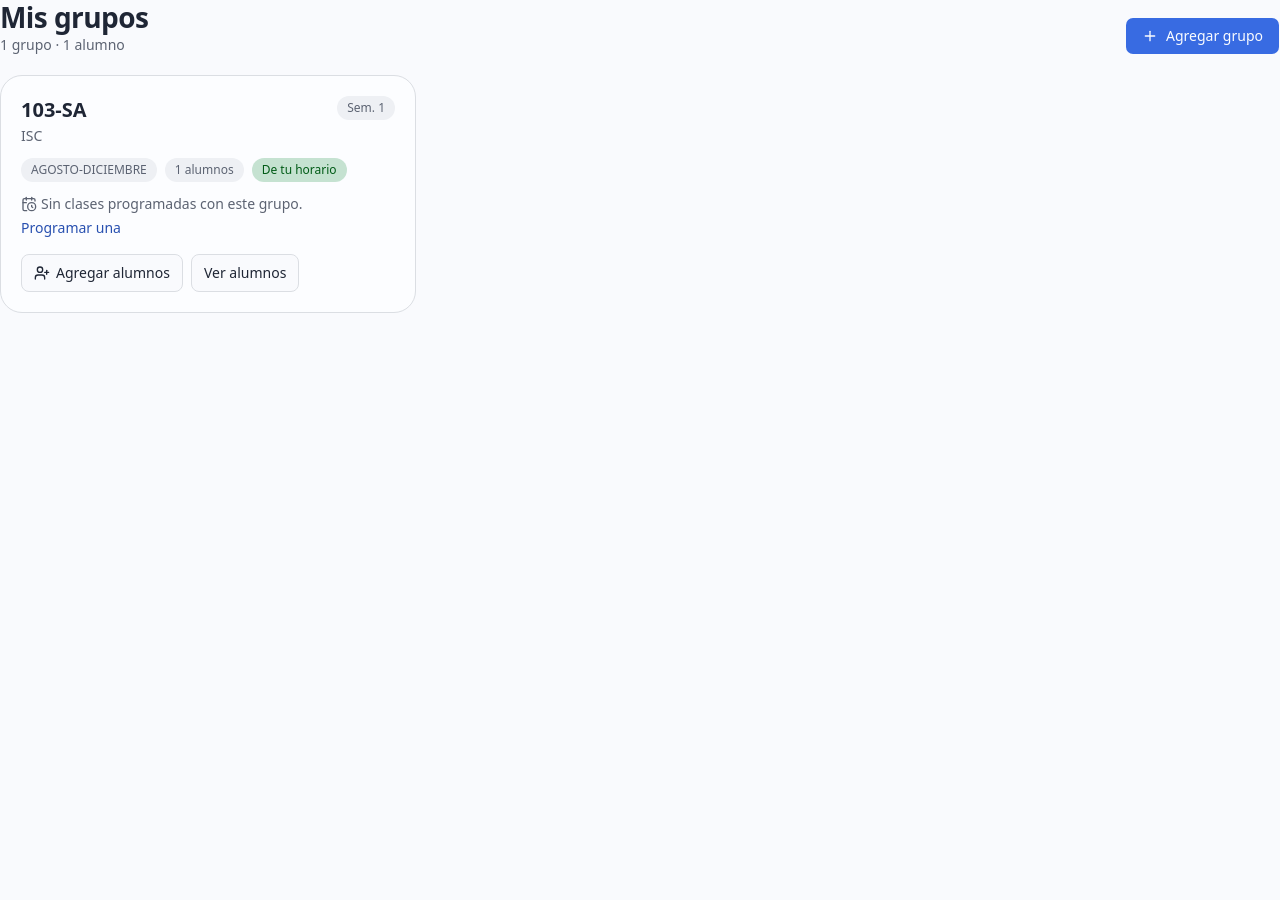
Test: si el servidor rechaza el sexo se regresa al valor anterior y se explica
Step 1. Click the button "Ver alumnos" → [245, 273], box [191,254,299,292]
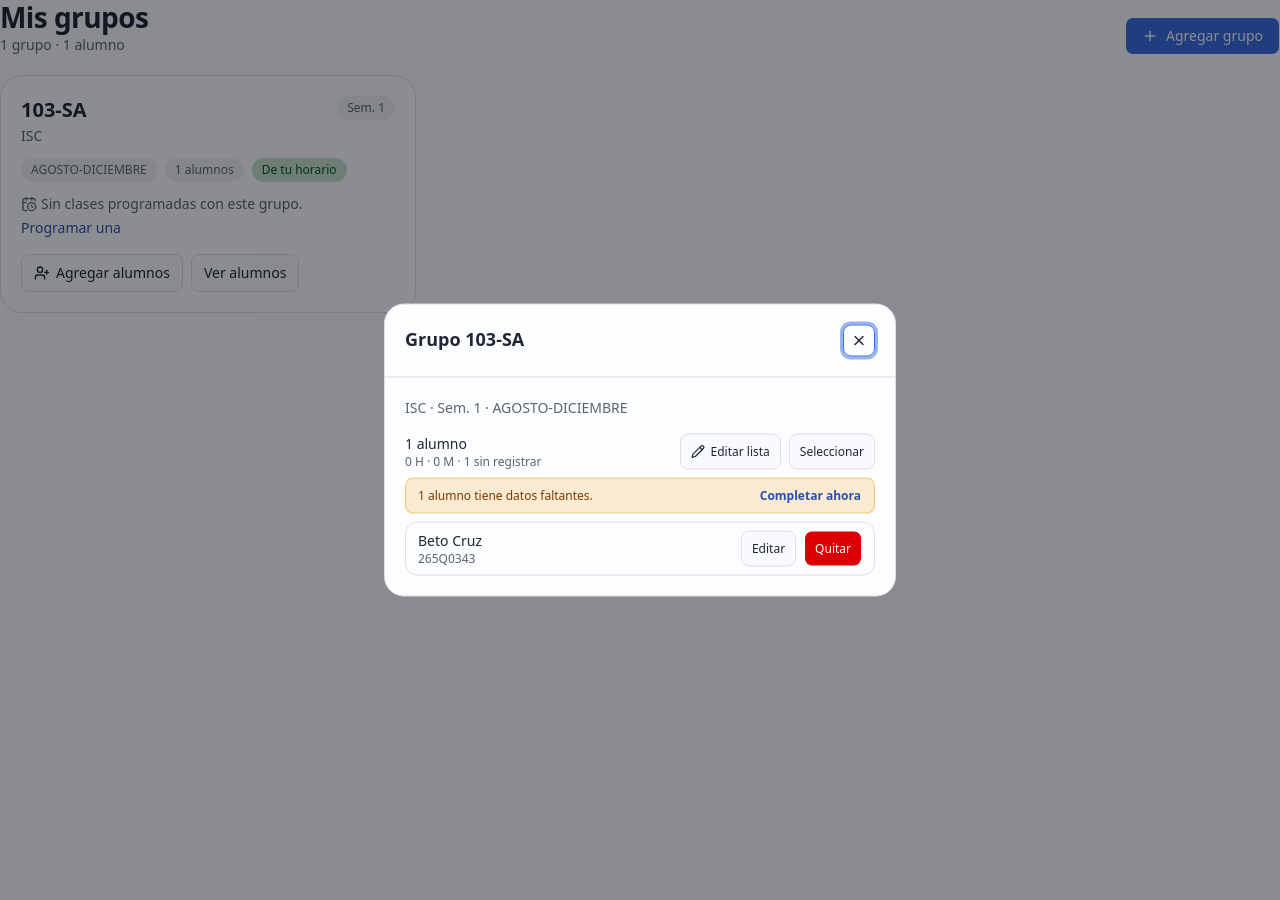
Step 2. Click the button "Editar lista" → [730, 452], box [680,434,781,470]
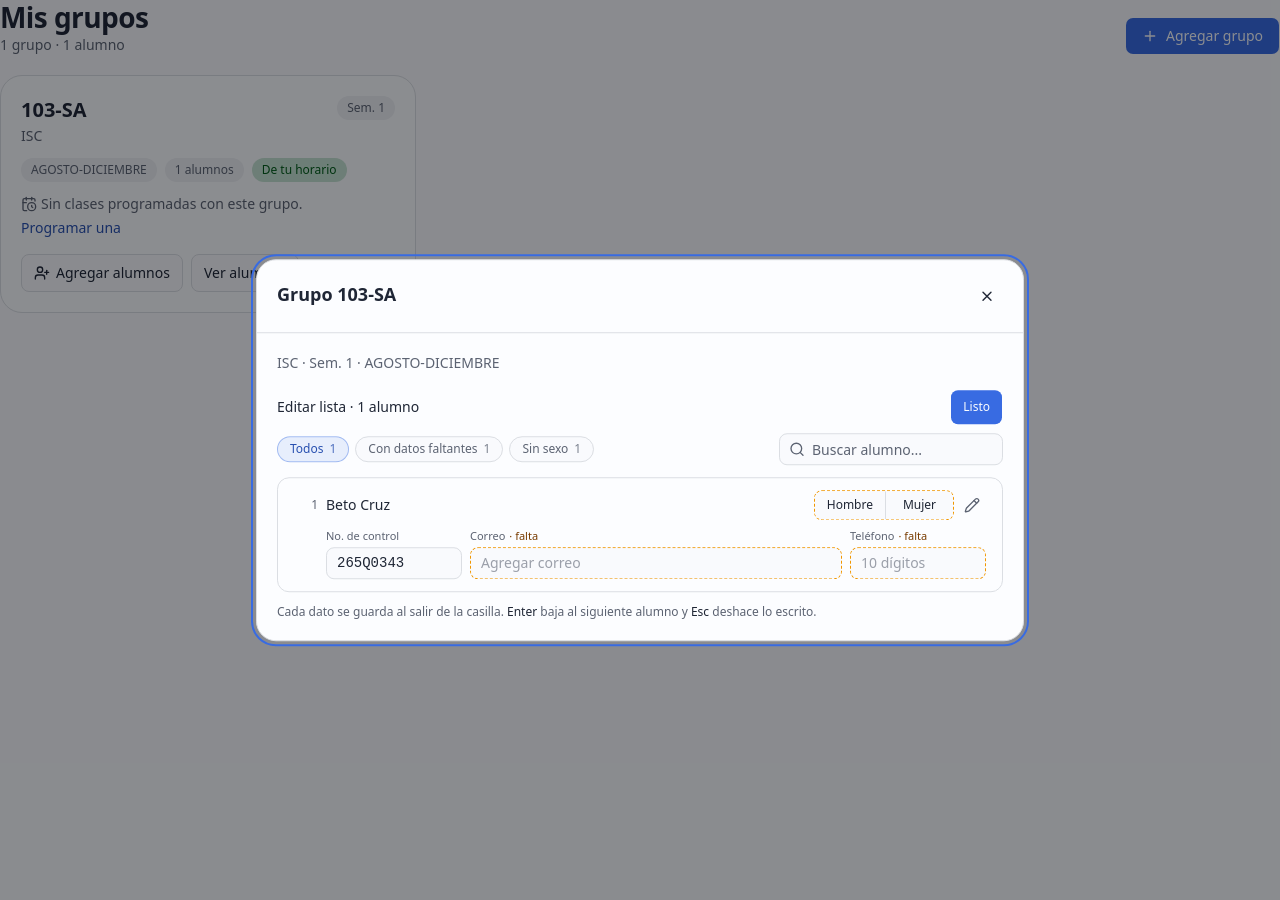
Step 3. Click the button "Mujer" → [919, 505], box [885,491,953,519]
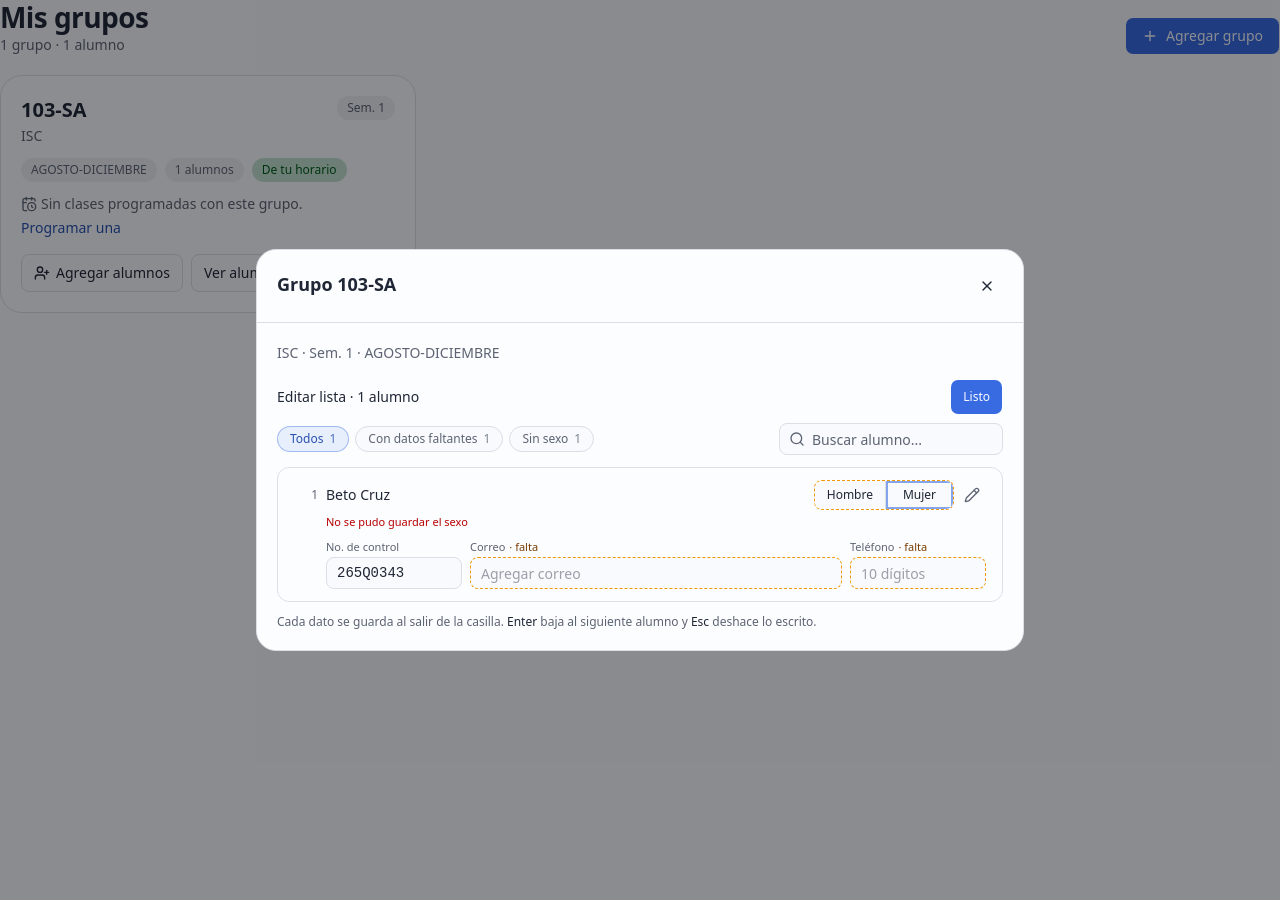
Expected: the text "No se pudo guardar el sexo" is shown, [326,514,468,529]
